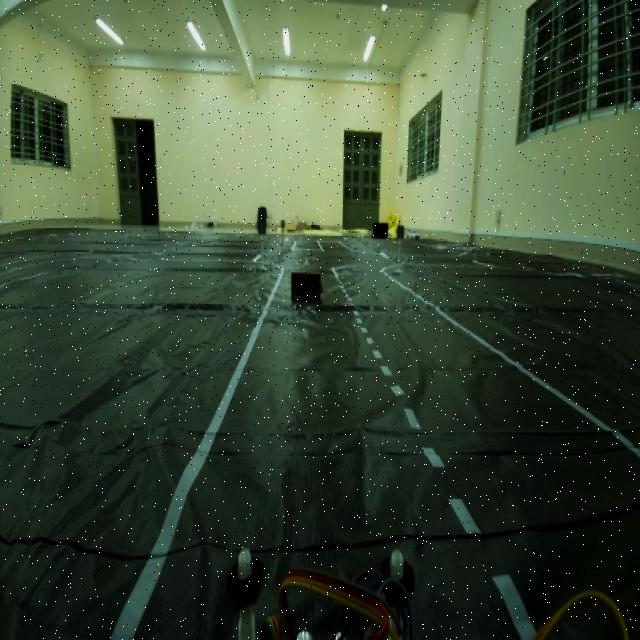roadblock: (288, 262, 329, 313)
